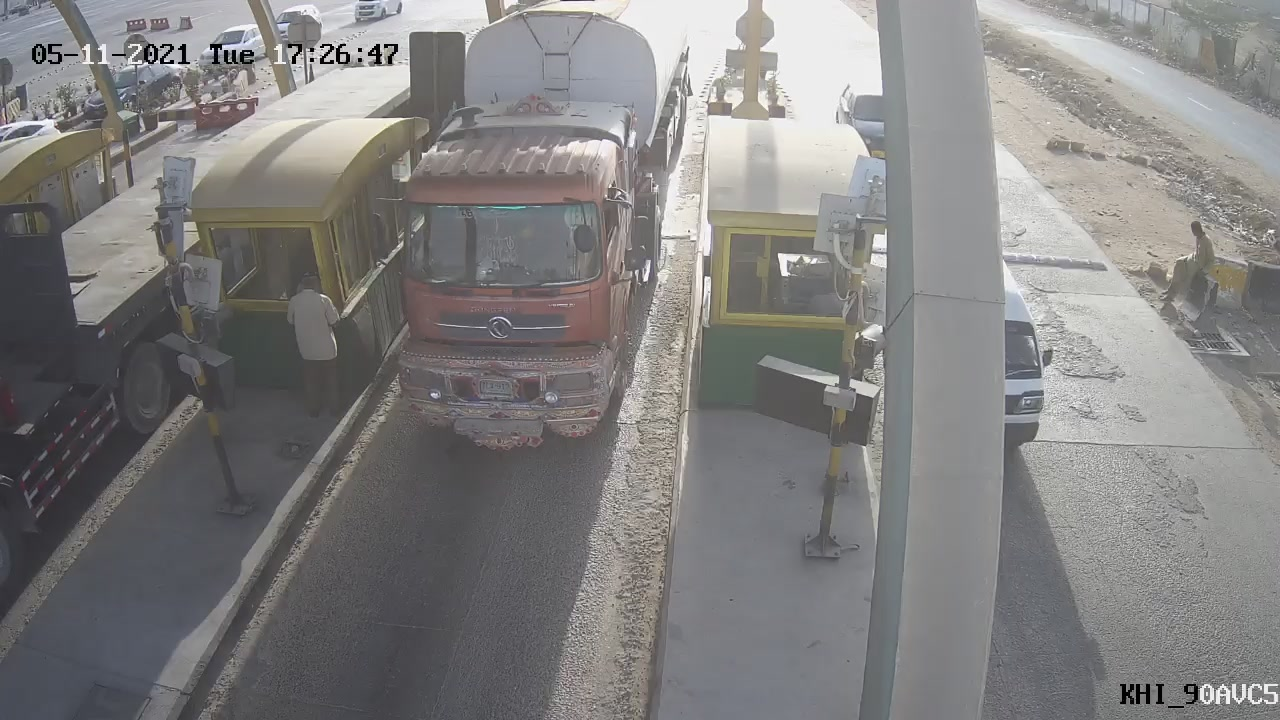F6: (347, 1, 711, 472)
